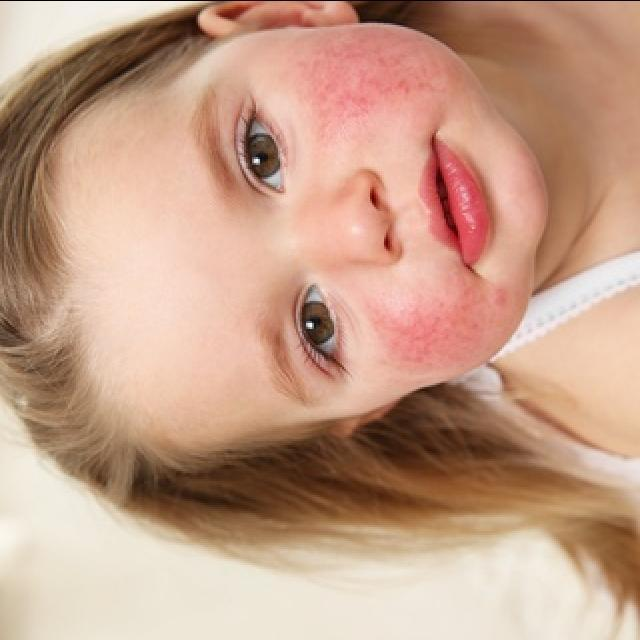Rosacea: (308, 43, 429, 121), (370, 301, 490, 367)
